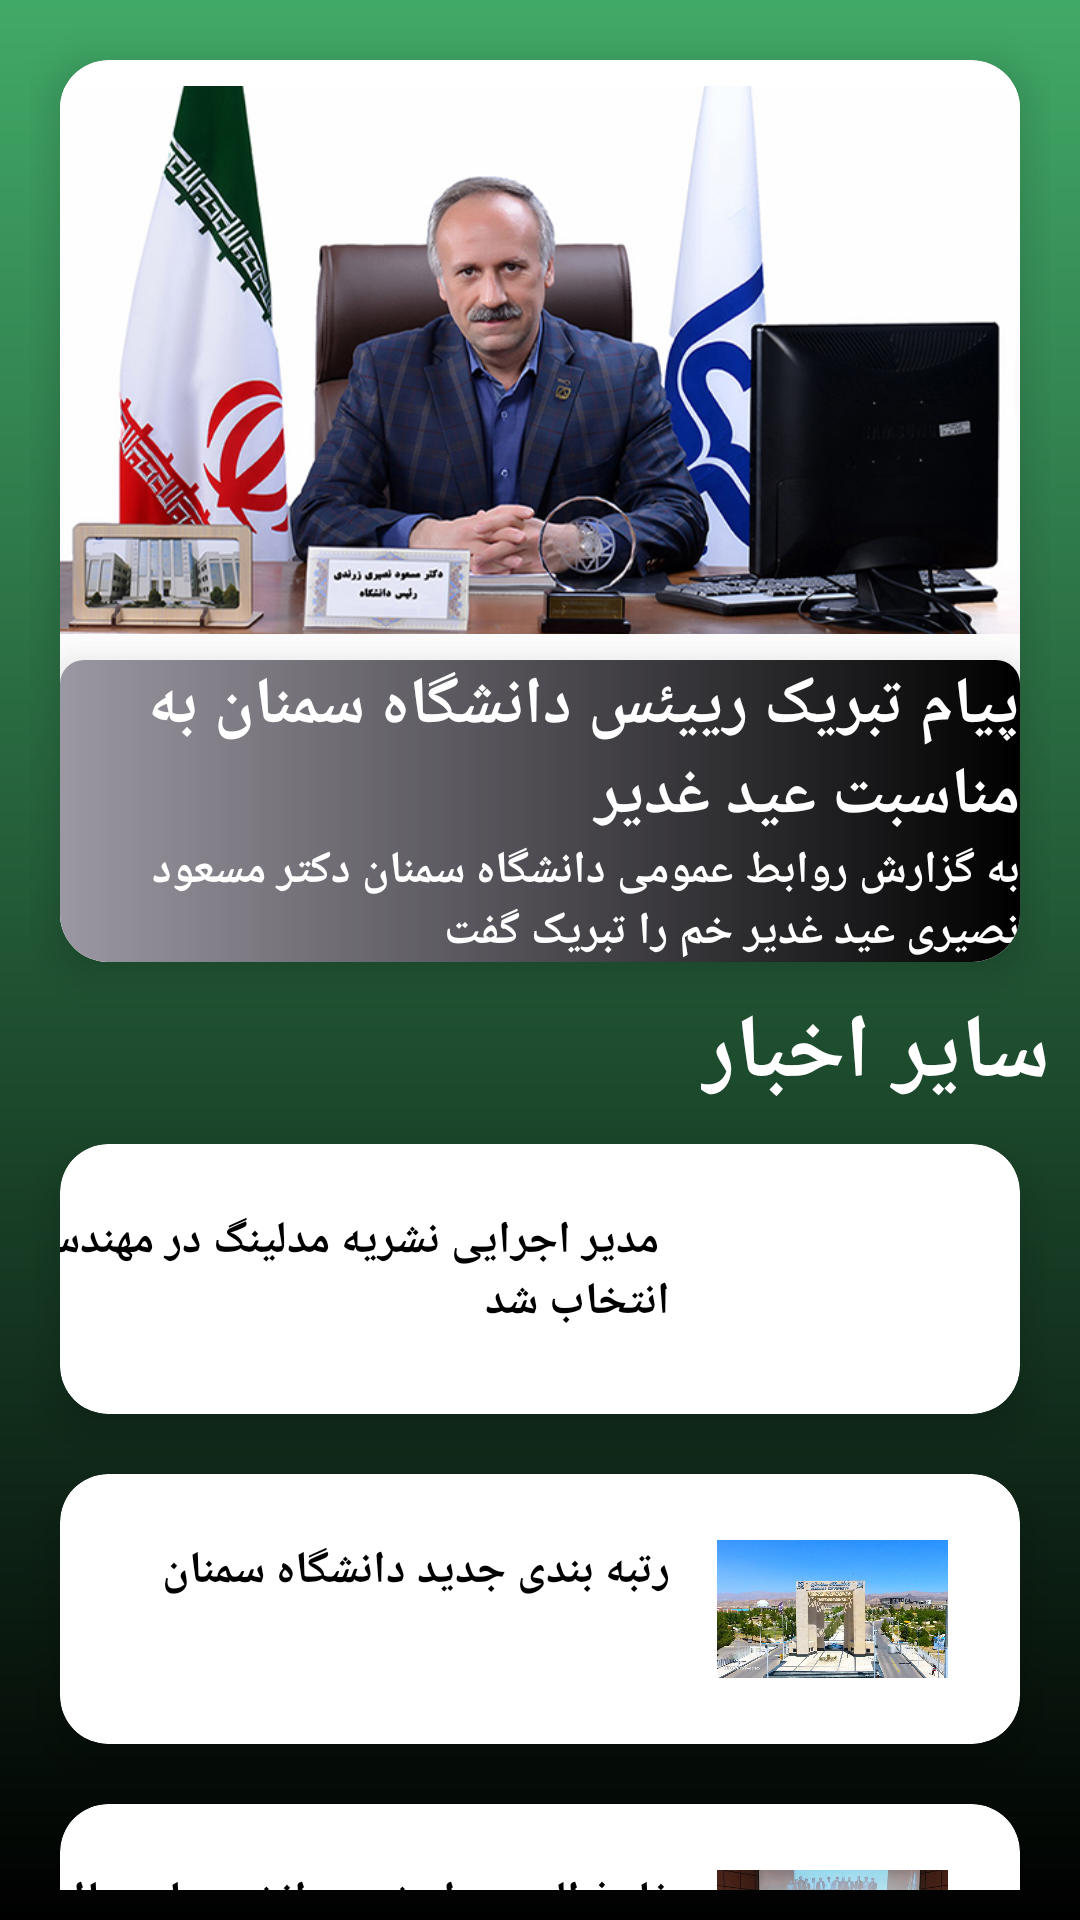

Where to tap for icons on this 1080px×1920px app screen, as (x,y):
unientry: (832,1609)
